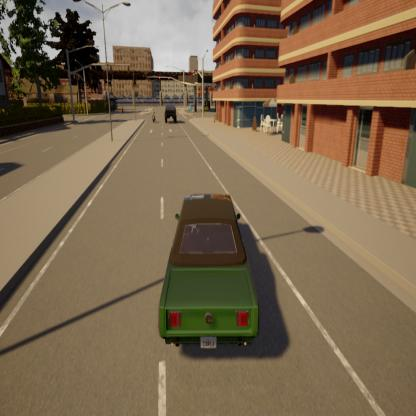Cars: (150, 188, 264, 355), (163, 102, 179, 128)
